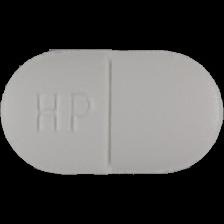53808-0982: (0, 0, 224, 224)
